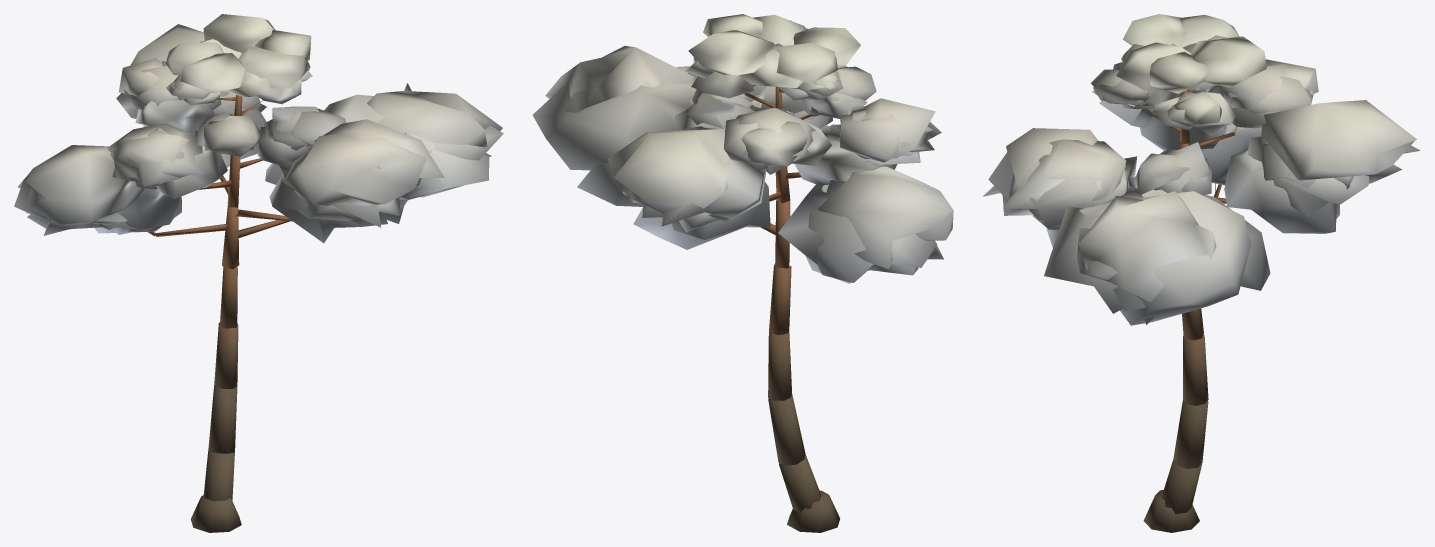
The picture shows the model from 3 angles, left to right: view 1: azimuth 30°, elevation 25°; view 2: azimuth 150°, elevation 25°; view 3: azimuth 270°, elevation 25°; orthographic projection. The views are drawn at different scales.
Parts seen in each view (by area): view 1: crown, trunk1, trunk2; view 2: crown, trunk1, trunk2; view 3: crown, trunk1, trunk2.
Part boxes in pixels (left/top/right/bottom): crown: left=14, top=14, right=503, bottom=243; trunk1: left=190, top=322, right=241, bottom=532; trunk2: left=148, top=95, right=292, bottom=328; crown: left=532, top=14, right=953, bottom=283; trunk1: left=768, top=331, right=840, bottom=532; trunk2: left=744, top=86, right=813, bottom=334; crown: left=982, top=14, right=1420, bottom=325; trunk1: left=1143, top=334, right=1208, bottom=532; trunk2: left=1145, top=89, right=1236, bottom=340.
Size of the model in its own units: 17.72 by 18.73 by 14.72.
